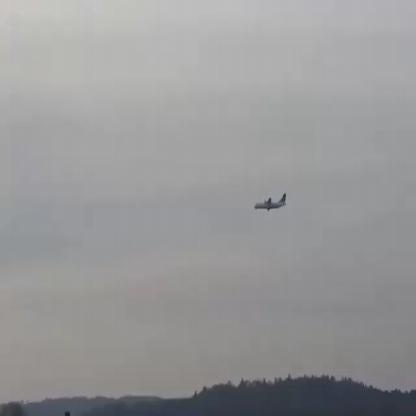CIV_Plane: (253, 193, 286, 214)
